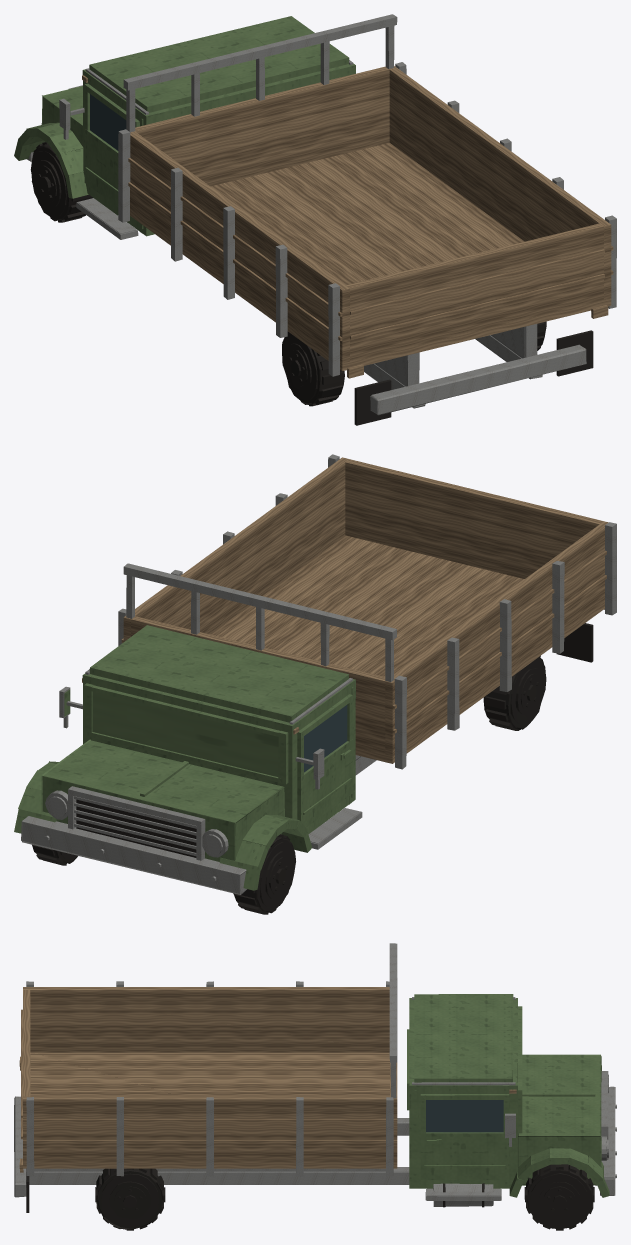
File: farm_flatbed.glb
3 views of the same model, one above another, from view 1: azimuth 30°, elevation 25°; view 2: azimuth 150°, elevation 25°; view 3: azimuth 270°, elevation 25° (orthographic). The views are drawn at different scales.
Parts seen in each view (by area): view 1: FarmFlatbed, Tailgate, Wheel_L2, Door_L, Wheel_L1, Glass_L; view 2: FarmFlatbed, Tailgate, Door_L, Wheel_L2, Wheel_L1, Glass_L; view 3: FarmFlatbed, Door_R, Wheel_R1, Wheel_R2, Glass_R, Tailgate.
Part boxes in pixels (<box>): FarmFlatbed: <box>14,14,616,425</box>; Tailgate: <box>346,223,603,361</box>; Wheel_L2: <box>282,331,344,406</box>; Door_L: <box>84,83,139,219</box>; Wheel_L1: <box>30,142,92,222</box>; Glass_L: <box>90,94,126,150</box>; FarmFlatbed: <box>14,454,616,894</box>; Tailgate: <box>345,459,603,578</box>; Door_L: <box>297,694,352,827</box>; Wheel_L2: <box>483,656,546,730</box>; Wheel_L1: <box>233,834,295,914</box>; Glass_L: <box>304,705,347,772</box>; FarmFlatbed: <box>14,943,616,1212</box>; Door_R: <box>420,1094,509,1179</box>; Wheel_R1: <box>524,1164,594,1230</box>; Wheel_R2: <box>95,1168,165,1230</box>; Glass_R: <box>426,1100,503,1132</box>; Tailgate: <box>23,990,30,1096</box>.
Size of the model in its own units: 3.2 by 2.32 by 6.86.
5 materials, 3 textured.
